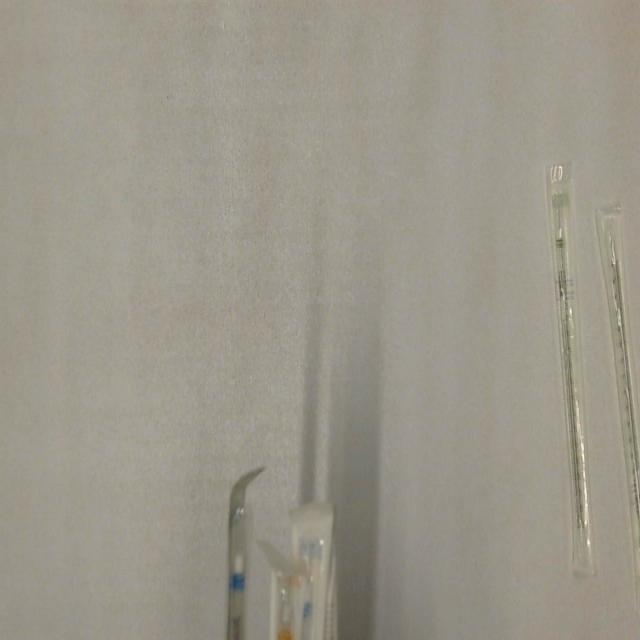Serelogical Pipet 10 mL - Sealed: (264, 558, 309, 640)
Serelogical Pipet 2 mL - Sealed: (544, 156, 600, 583), (589, 194, 640, 614)
Serelogical Pipet 5 mL - Sealed: (287, 490, 337, 640), (220, 498, 250, 640)
